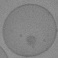small: (25, 36, 36, 46)
